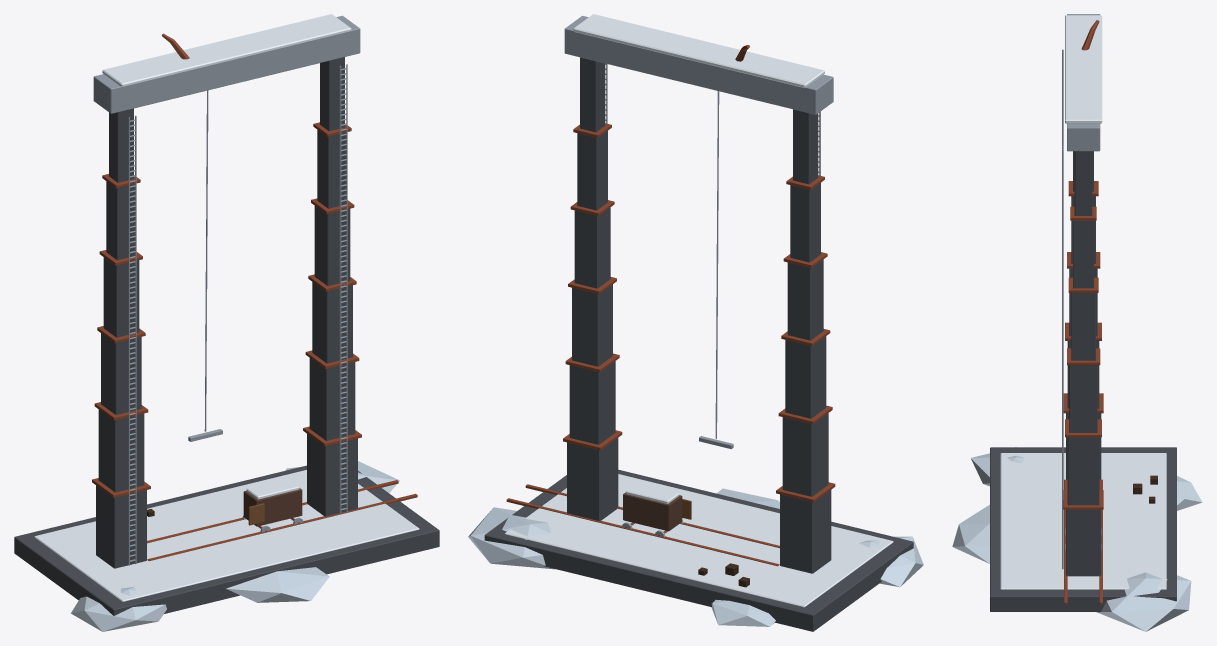
Rendered from Heritage_Yard.fbx.
3 views of the same model, side by side, from view 1: azimuth 30°, elevation 25°; view 2: azimuth 150°, elevation 25°; view 3: azimuth 270°, elevation 25° (orthographic). The views are drawn at different scales.
Visible parts, largest first — view 1: Heritage_Yard; view 2: Heritage_Yard; view 3: Heritage_Yard.
Boxes of the visible parts, x1,y1,x2,y2 form: Heritage_Yard: [14, 14, 439, 631]; Heritage_Yard: [468, 14, 923, 631]; Heritage_Yard: [952, 14, 1202, 631].
Size of the model in its own units: 3900 by 5384 by 2410.
